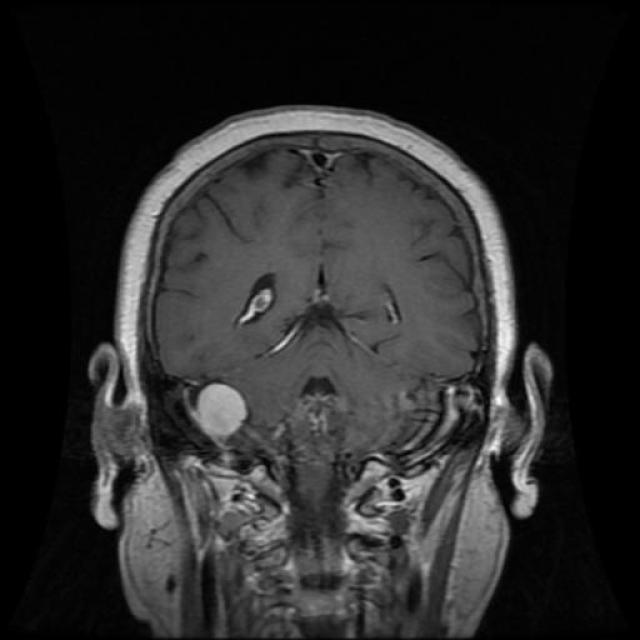meningioma: (196, 384, 246, 435)
